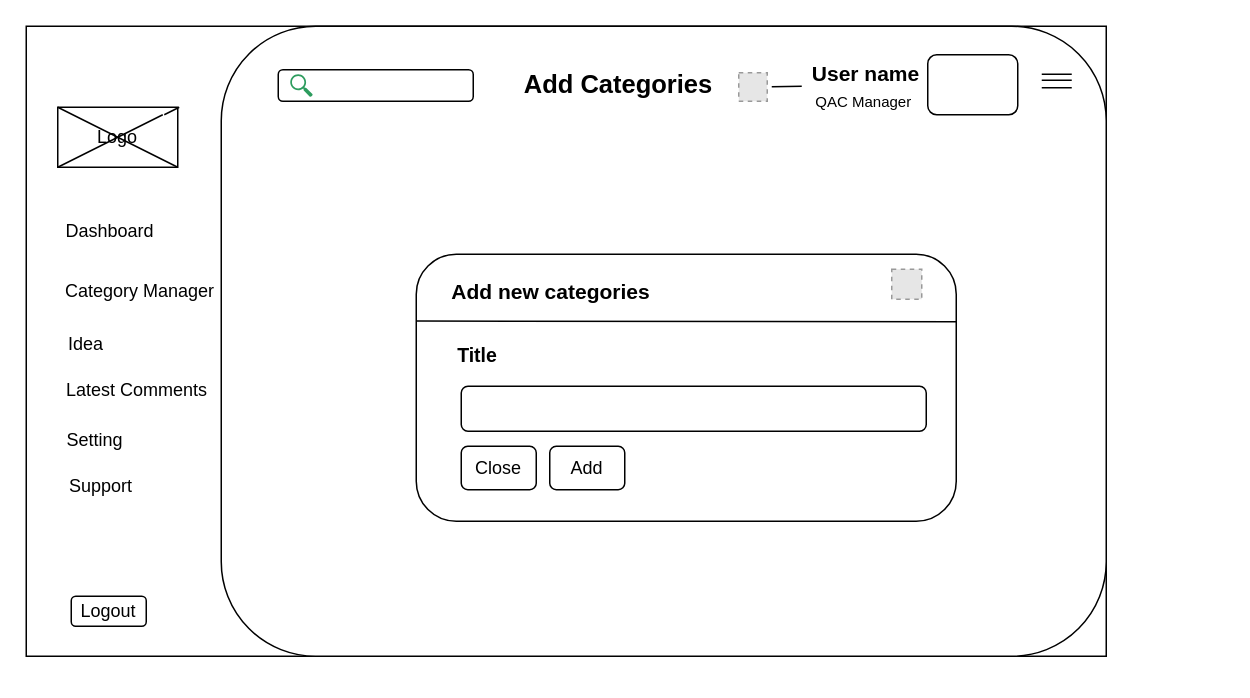
The diagram is 1250 pixels wide and 698 high, and some of its shapes have lost their labels. Grey dashed boxes stand in for pictures. Each missing label, with the centre of its shape:
"Avatar" belongs at point 972,84.
"values" belongs at point 693,408.
